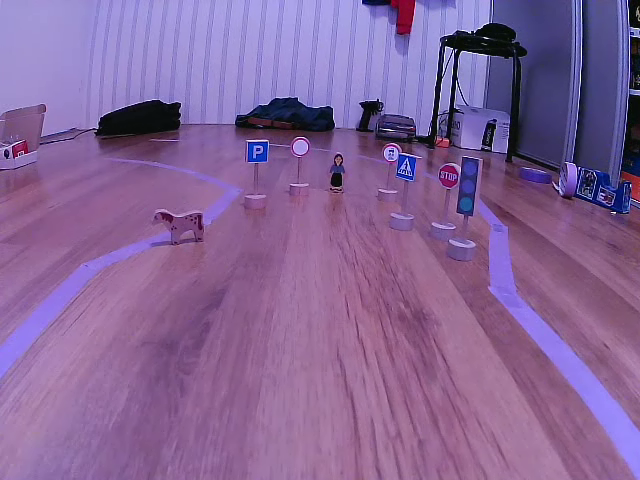fietspad: (382, 143, 396, 162)
groenlicht: (457, 158, 482, 213)
mens: (329, 152, 348, 192)
paard: (151, 208, 208, 245)
parkeerbord: (246, 139, 270, 164)
stopbord: (439, 163, 457, 188)
wegdicht: (291, 136, 309, 160)
zebrapad: (396, 151, 419, 180)
